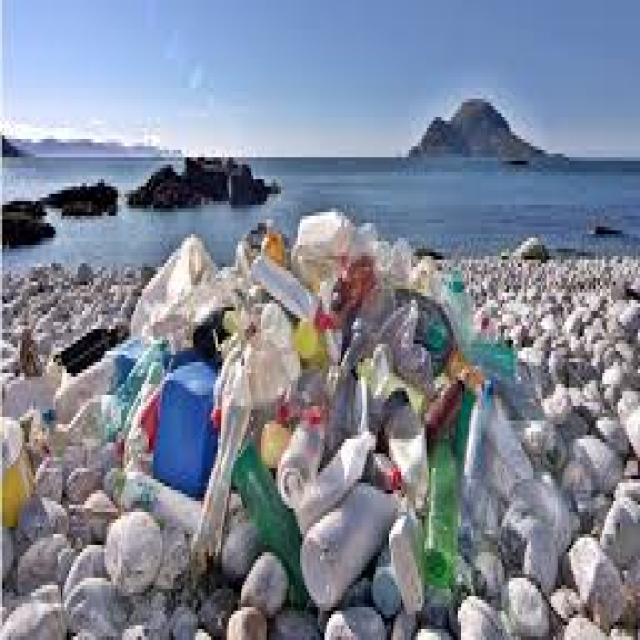plastic_bag: (100, 484, 171, 607)
plastic_bottle: (121, 218, 217, 364), (246, 370, 335, 523), (453, 358, 517, 537), (238, 237, 335, 341), (437, 251, 482, 339)
